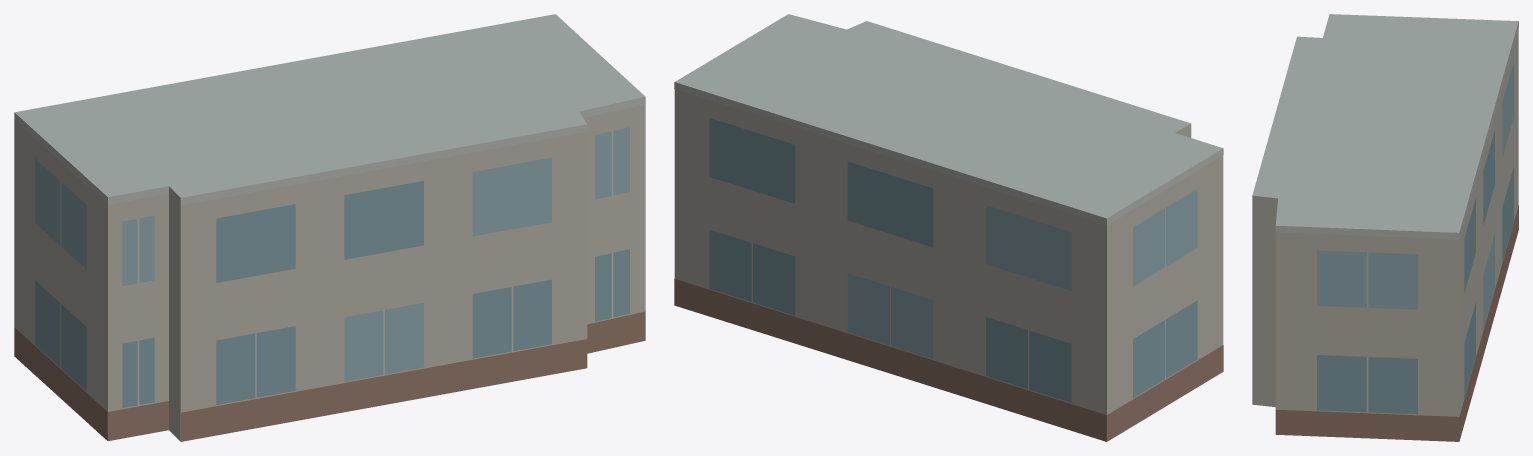
File: survey-upis-32642134.glb
3 renders of one model, left to right at view 1: azimuth 30°, elevation 25°; view 2: azimuth 150°, elevation 25°; view 3: azimuth 270°, elevation 25°, orthographic. The views are drawn at different scales.
Visible parts, largest first — view 1: survey-upis-32642134.tmp; view 2: survey-upis-32642134.tmp; view 3: survey-upis-32642134.tmp.
Boxes of the visible parts, x1,y1,x2,y2 form: survey-upis-32642134.tmp: [14, 14, 645, 441]; survey-upis-32642134.tmp: [674, 14, 1223, 441]; survey-upis-32642134.tmp: [1252, 14, 1518, 441].
Size of the model in its own units: 17.75 by 7.9 by 9.14.
